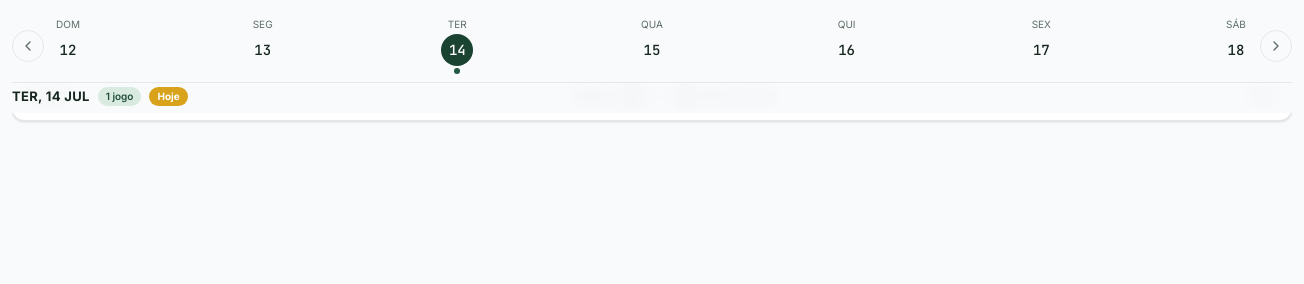
Test: CalendarioContent › ao selecionar um dia sem jogos, mostra 'Nenhum jogo neste dia'
This screenshot has width=1304, height=284.
Note: Clica num dia da semana que não é hoje (sem aria-current) → sem jogos.
Click the button "Dom 12" at [68, 46], box [48, 17, 88, 74]
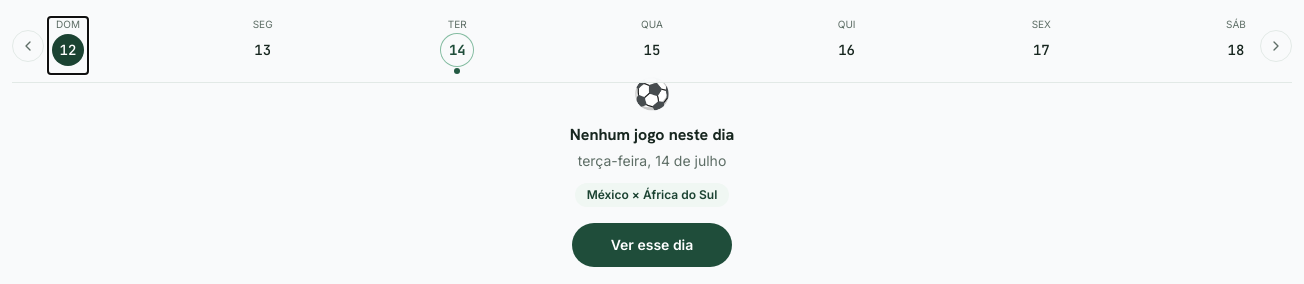
Now the text "Nenhum jogo neste dia" is shown, box [570, 123, 734, 147]
